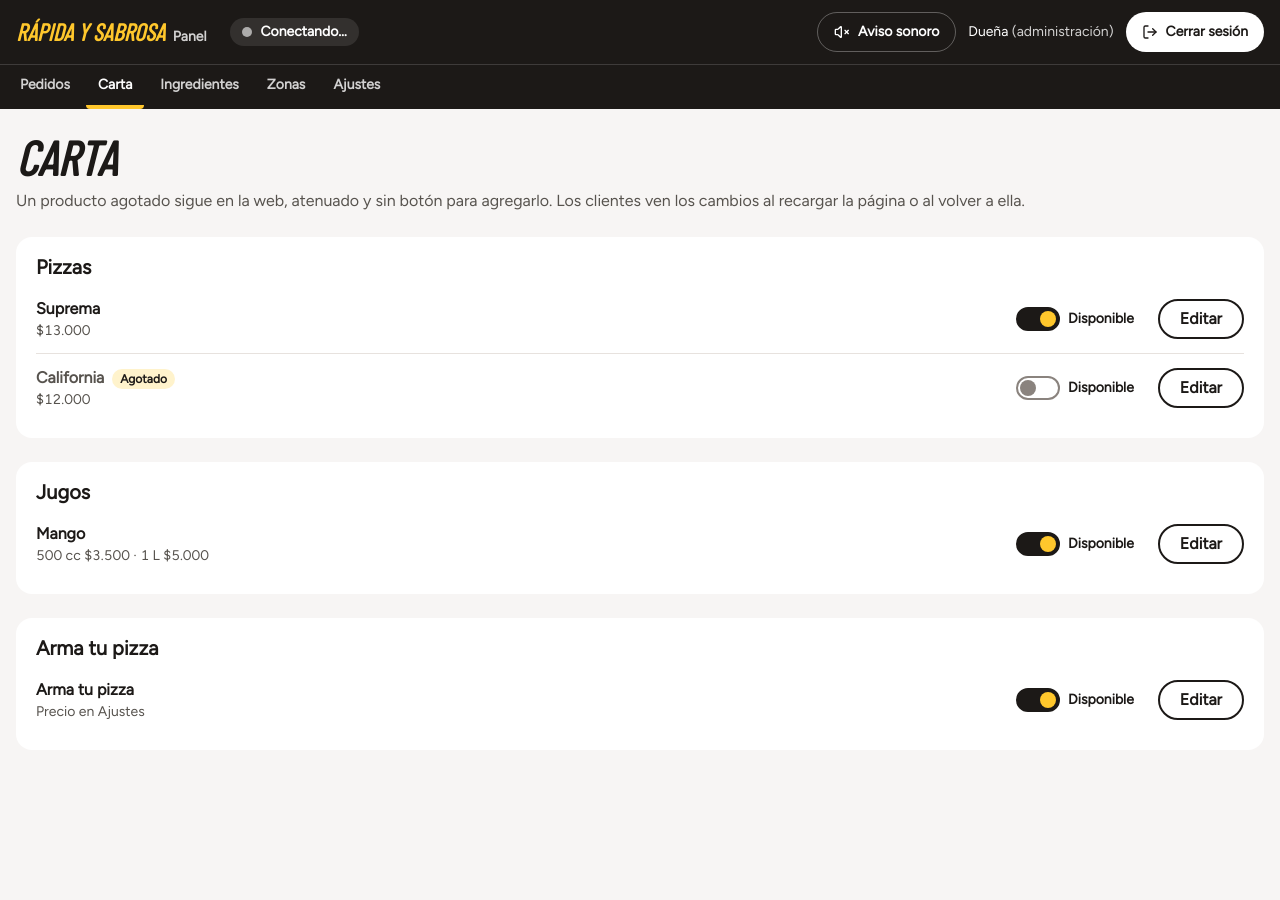
Scenario: menú del panel › se navega entre secciones sin recargar y cada una pone su título
Expected: the heading "Carta" is shown, [16,128,116,186]
Click the link "Zonas" at x=286, y=84, box [267,76,305,93]
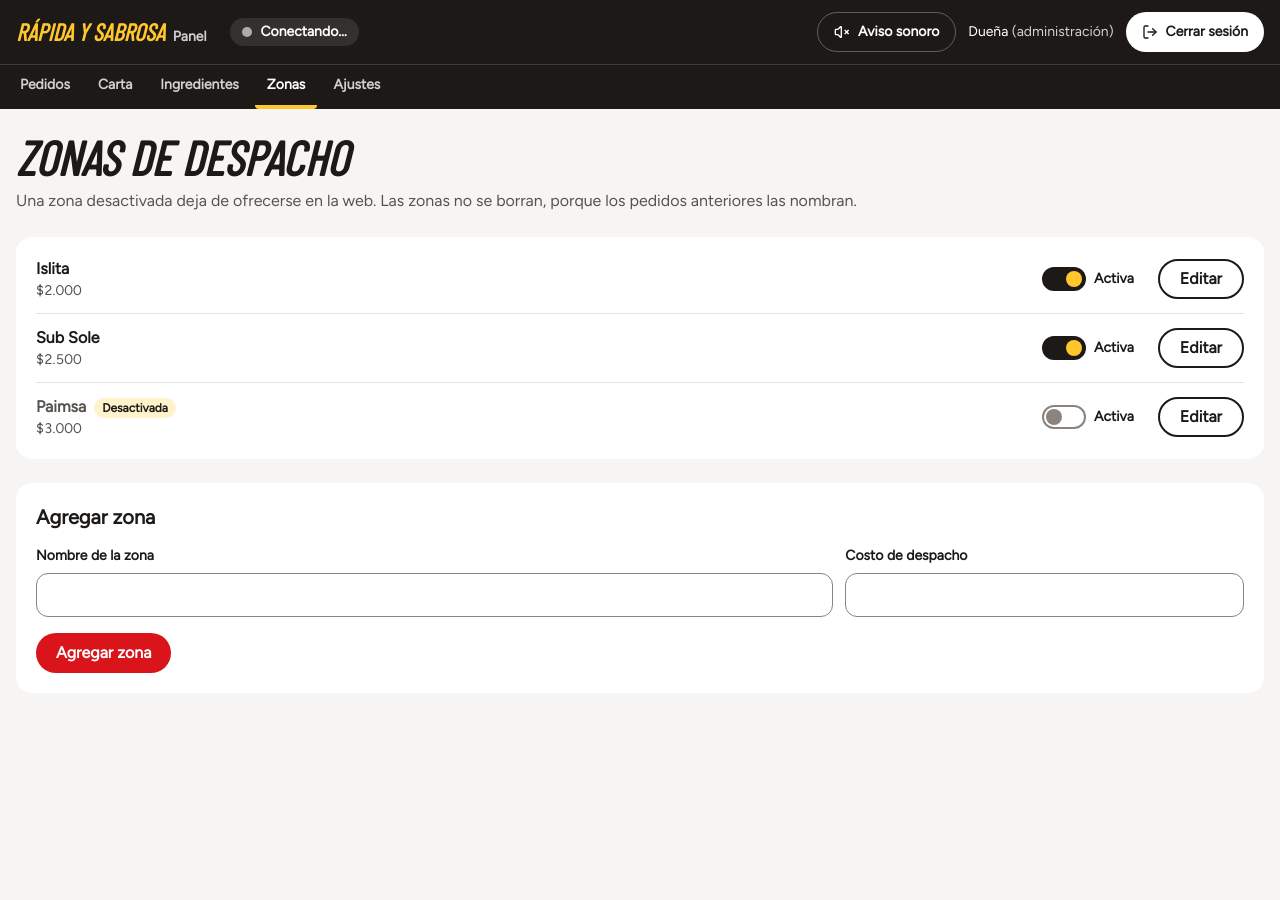
Click the link "Ajustes" at x=357, y=84, box [333,76,380,93]
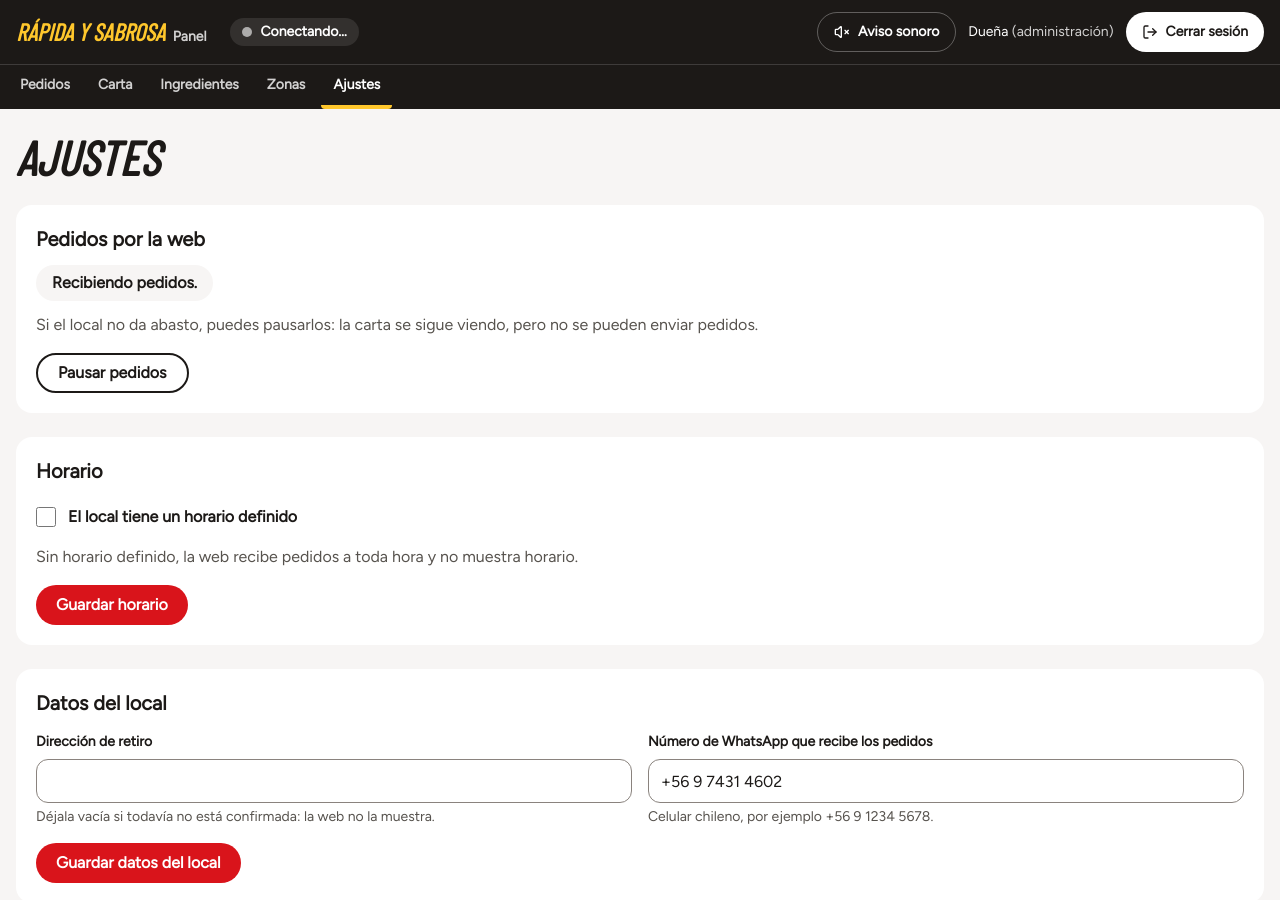
Expected: the heading "Ajustes" is shown, [16,128,159,186]
Click the link "Ingredientes" at x=200, y=84, box [160,76,239,93]
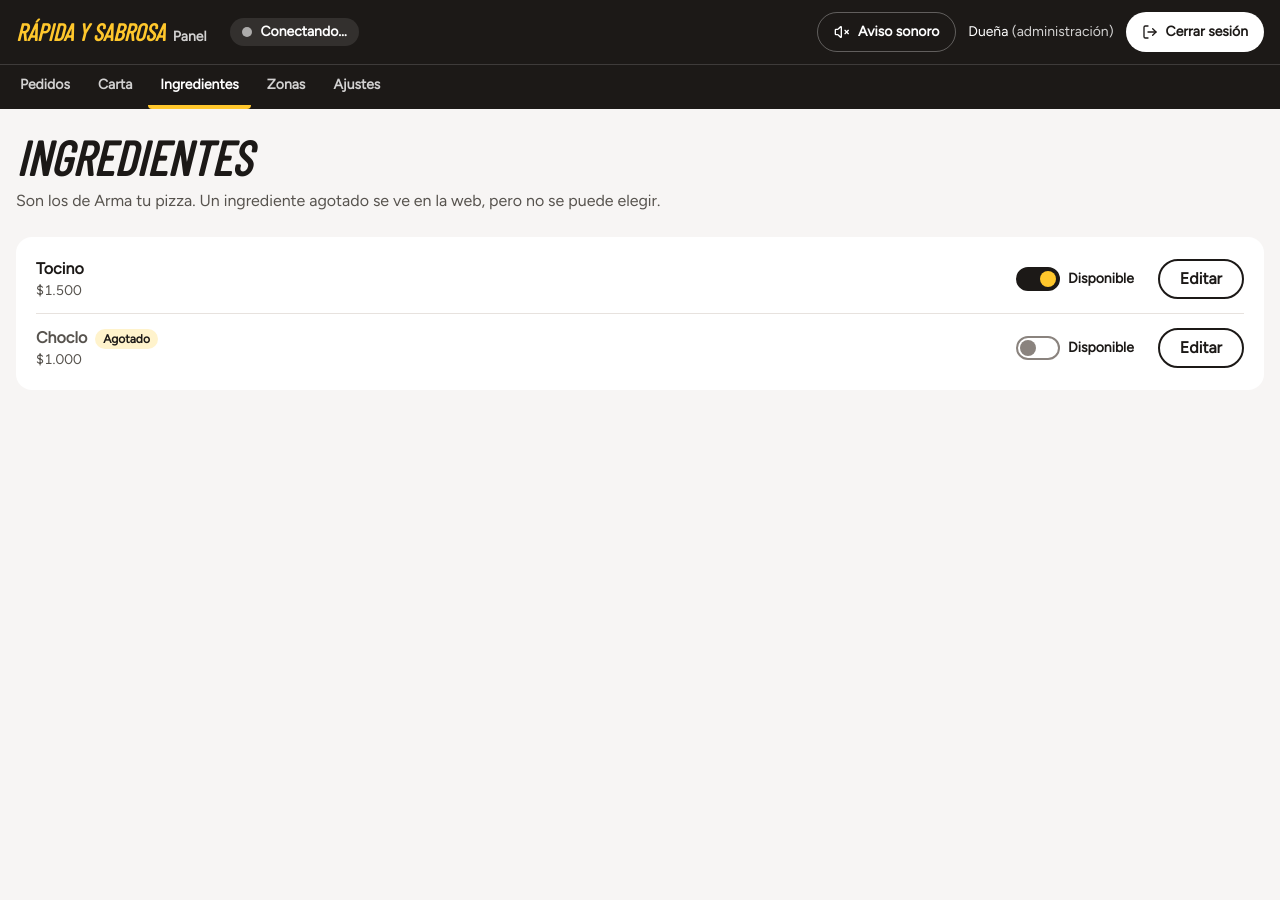
Expected: the heading "Ingredientes" is shown, [16,128,251,186]
